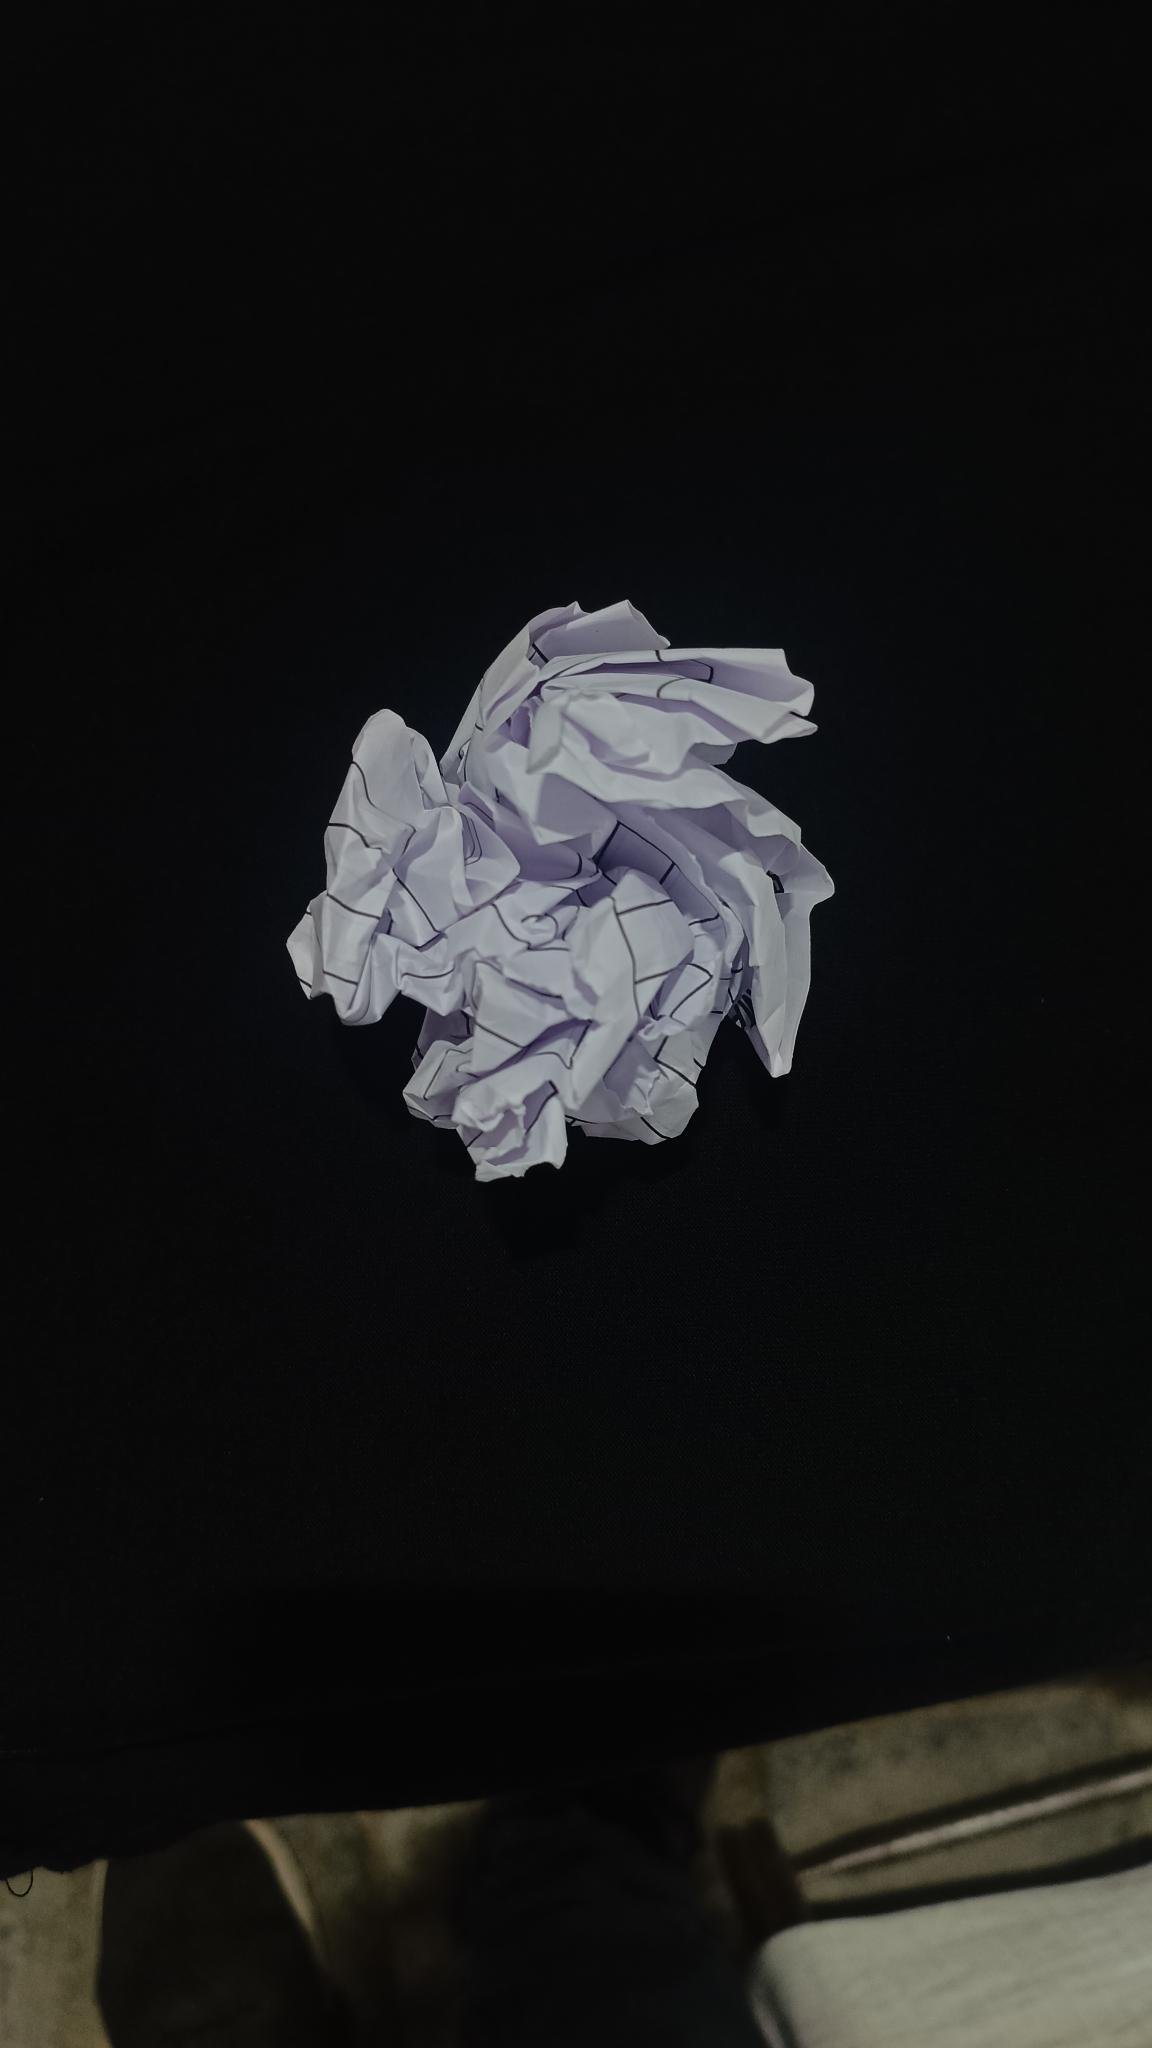PaperBall: (31, 647, 1037, 2013), (286, 596, 833, 1165)
